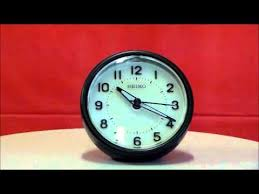alarm_clock: (80, 47, 195, 162), (80, 50, 195, 162), (87, 50, 195, 162)
